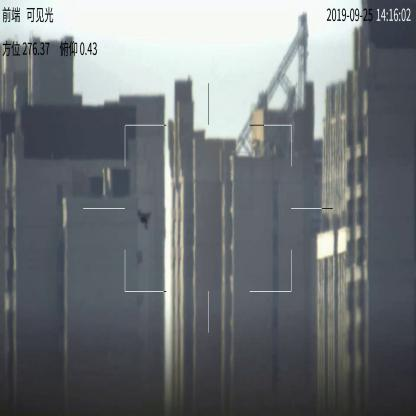uav: (136, 209, 153, 230)
